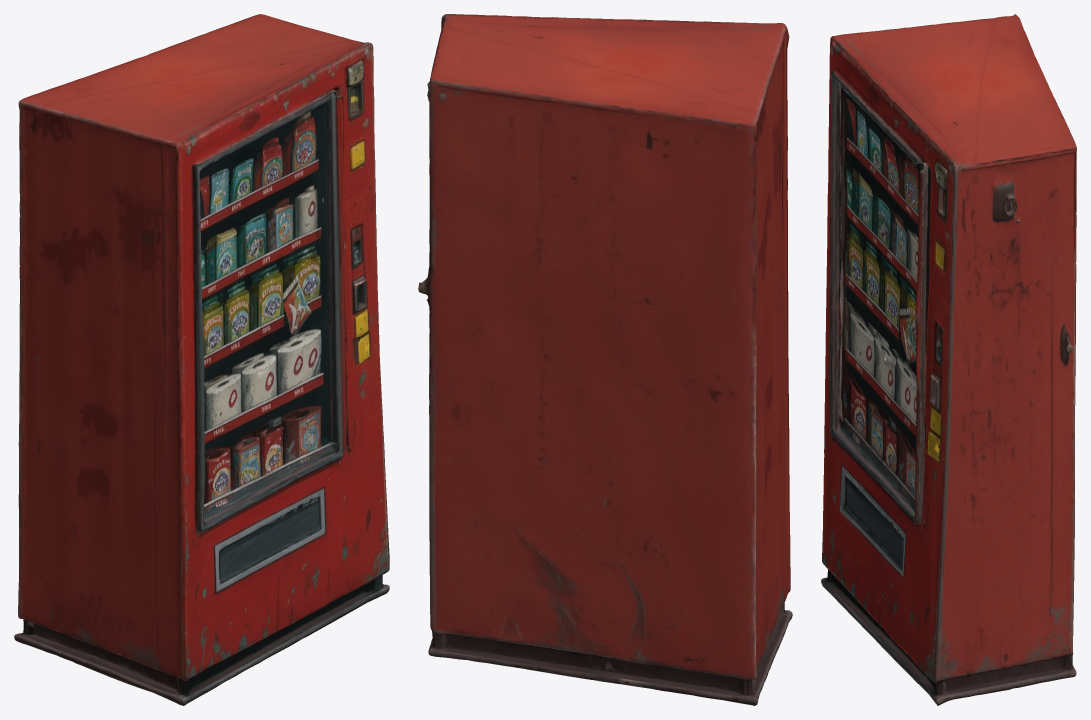
The model's file is vending_machine.glb.
3 renders of one model, left to right at view 1: azimuth 30°, elevation 25°; view 2: azimuth 150°, elevation 25°; view 3: azimuth 270°, elevation 25°, orthographic. The views are drawn at different scales.
Parts seen in each view (by area): view 1: piece; view 2: piece; view 3: piece.
Part boxes in pixels (<box>): piece: <box>14,14,389,705</box>; piece: <box>418,14,792,705</box>; piece: <box>821,14,1076,705</box>.
Bounding box in the file's own units: 1.19 × 1.9 × 0.8.
Materials: 1 (1 with a texture image).
